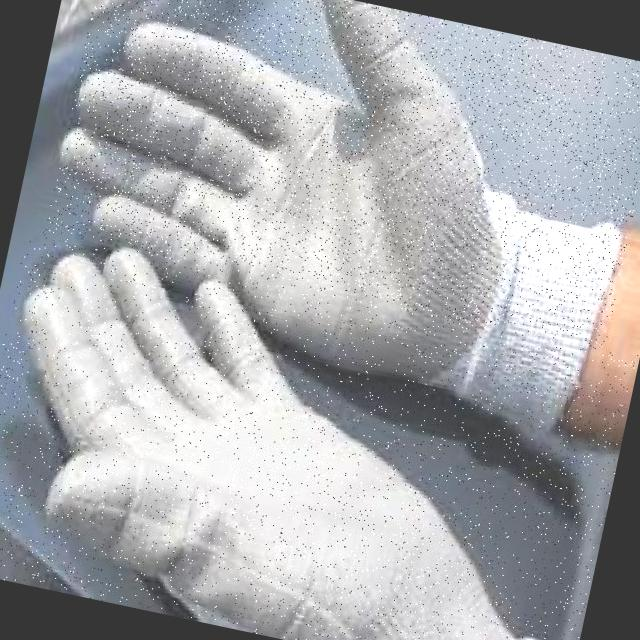gloves: (18, 0, 640, 451), (0, 231, 639, 640)
